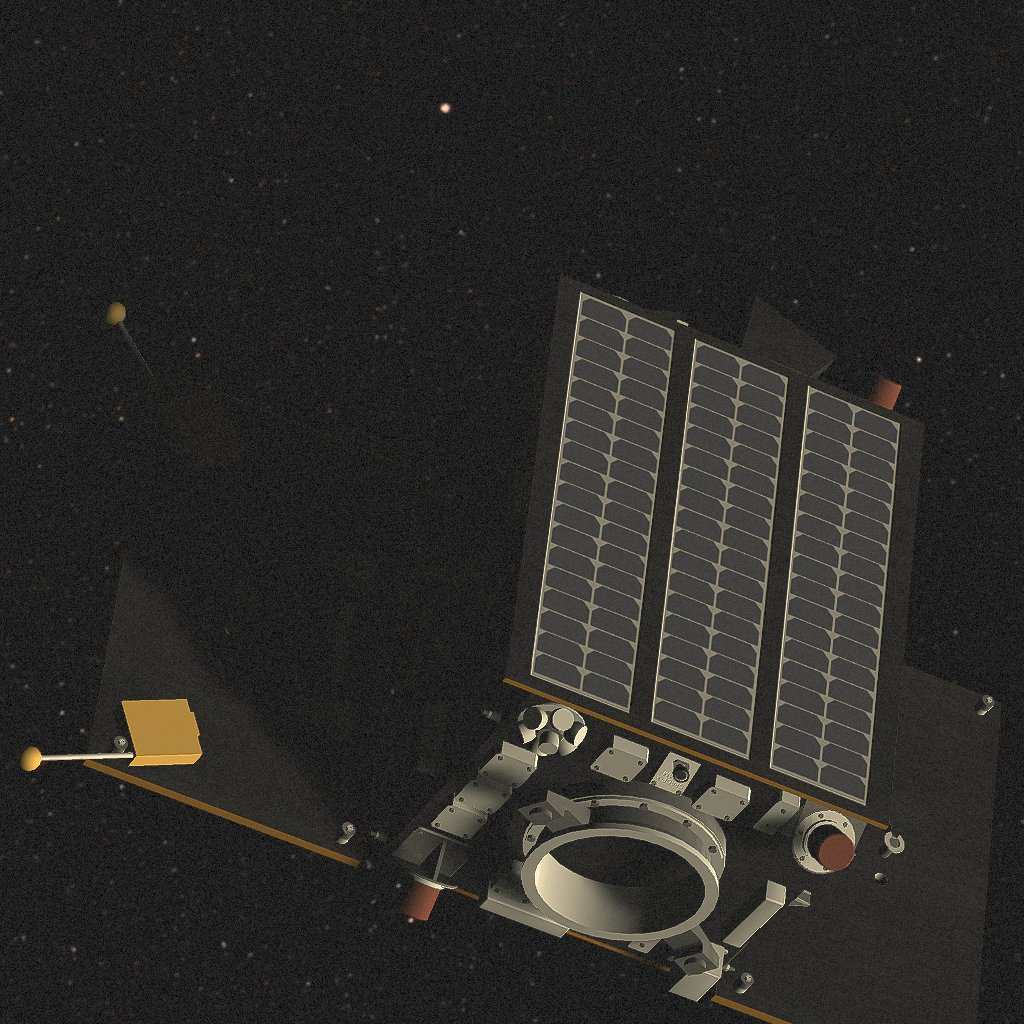proba_2: (16, 274, 1001, 1024)
